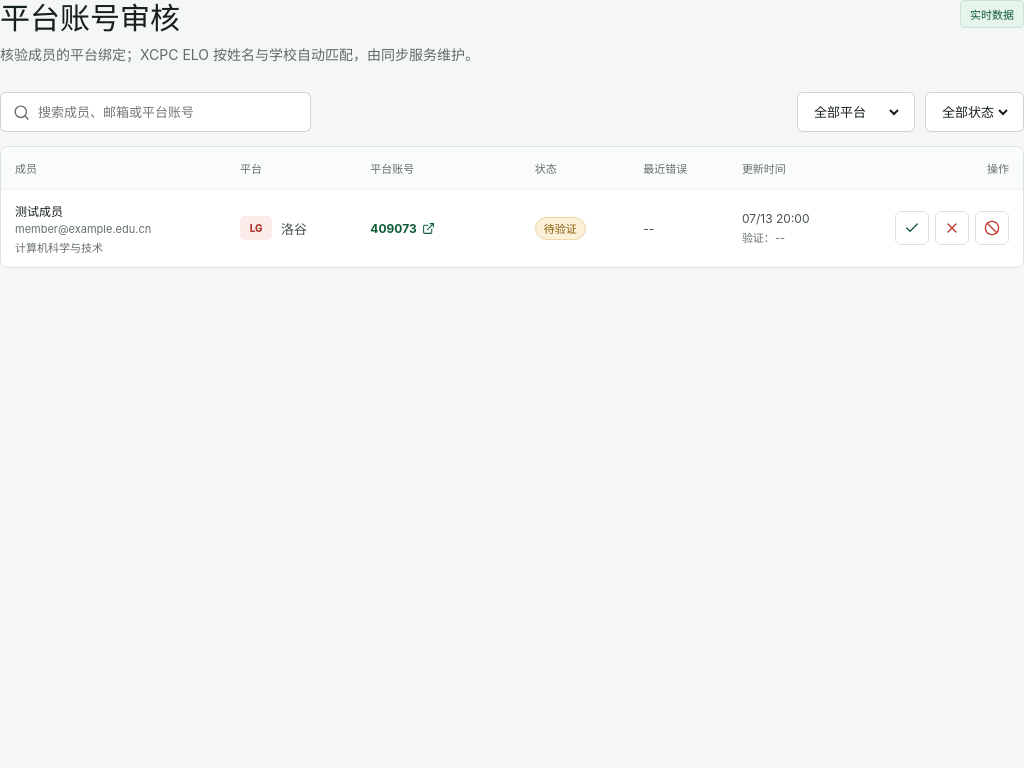
AdminAccountsPage with Supabase configured › requires an invalid reason and submits the optimistic-lock timestamp
Click the button named "标记 测试成员 的 洛谷 账号无效".
click(952, 228)  # box [935,211,969,245]
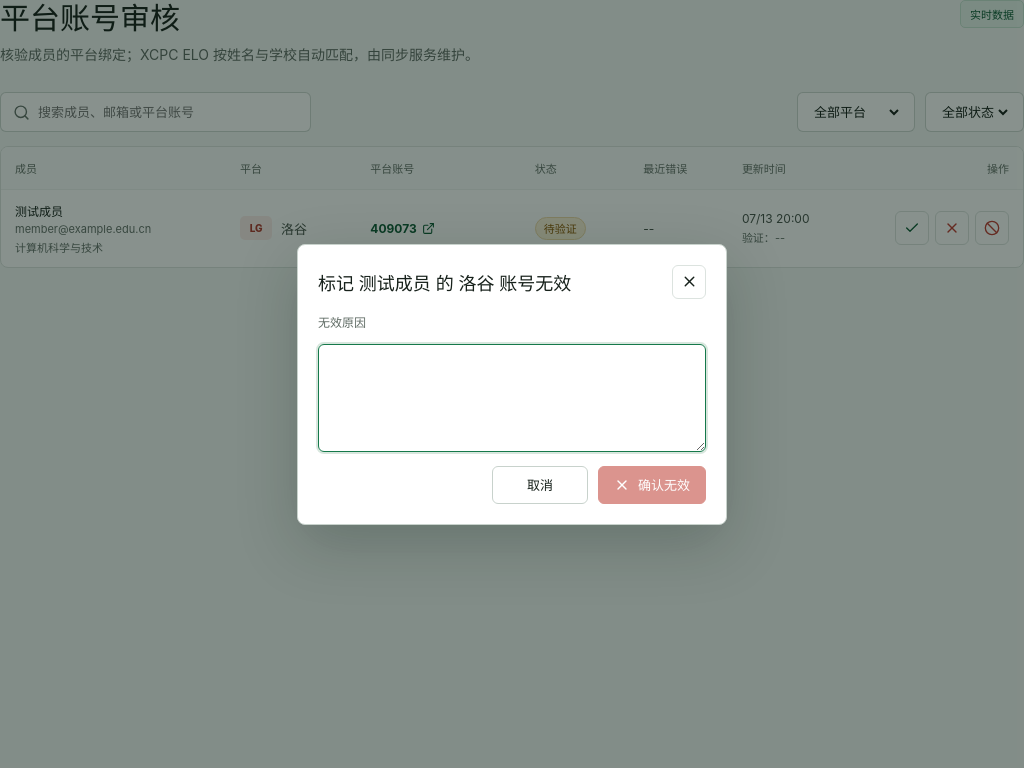
Now the button "确认无效" is disabled, box [598,466,706,504]
Type "用户不存在" into the text box labelled "无效原因".
click(512, 398); type("用户不存在")  # box [318,344,706,452]
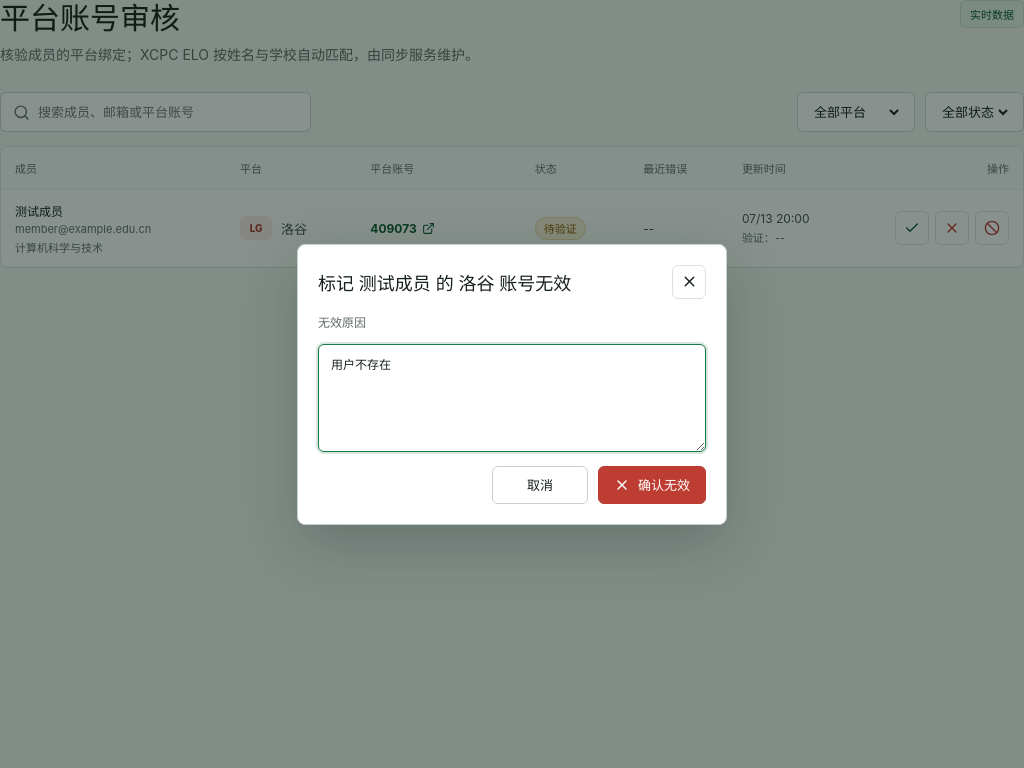
Click the button "确认无效".
click(652, 484)  # box [598,466,706,504]
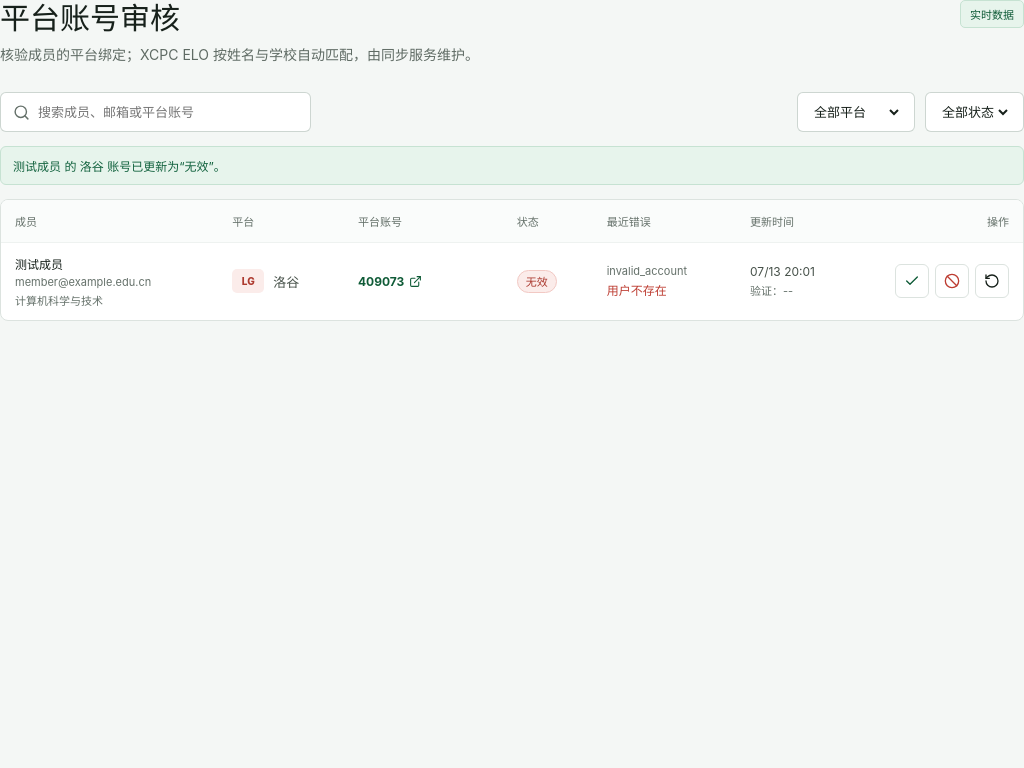
Now the text "无效" is shown, box [517,270,557,293]
Now the text "用户不存在" is shown, box [607,283,667,298]
Now the message shows "测试成员 的 洛谷 账号已更新为“无效”", box [13,159,226,174]
